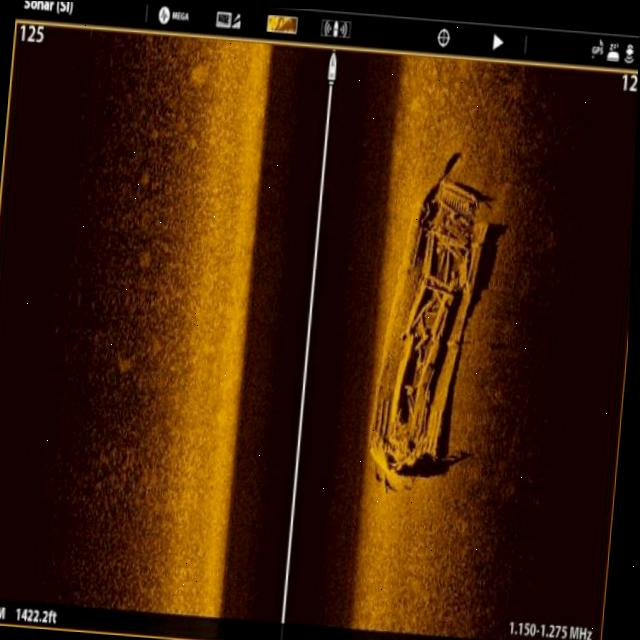shipwreck: (365, 152, 488, 484)
